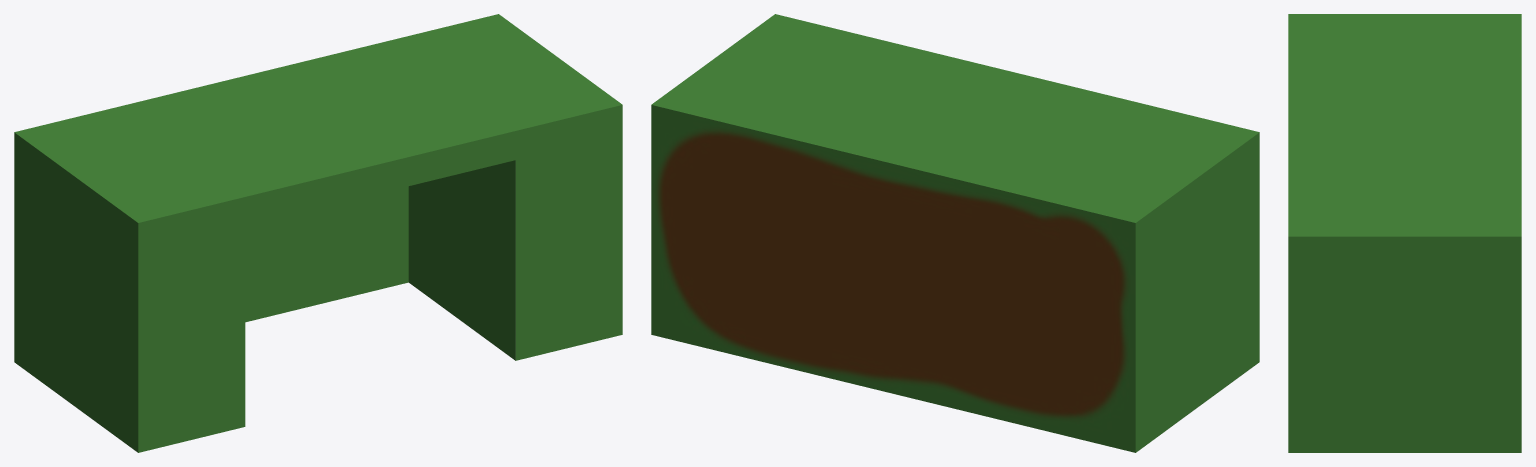
Rendered from desk.obj.
3 renders of one model, left to right at view 1: azimuth 30°, elevation 25°; view 2: azimuth 150°, elevation 25°; view 3: azimuth 270°, elevation 25°, orthographic. The views are drawn at different scales.
Parts seen in each view (by area): view 1: desk_Cube.001; view 2: desk_Cube.001; view 3: desk_Cube.001.
Part boxes in pixels (x1,y1,x2,y2): desk_Cube.001: (14,14,622,452); desk_Cube.001: (651,14,1259,452); desk_Cube.001: (1288,14,1521,452).
Size of the model in its own units: 4.96 by 2.25 by 2.2.
